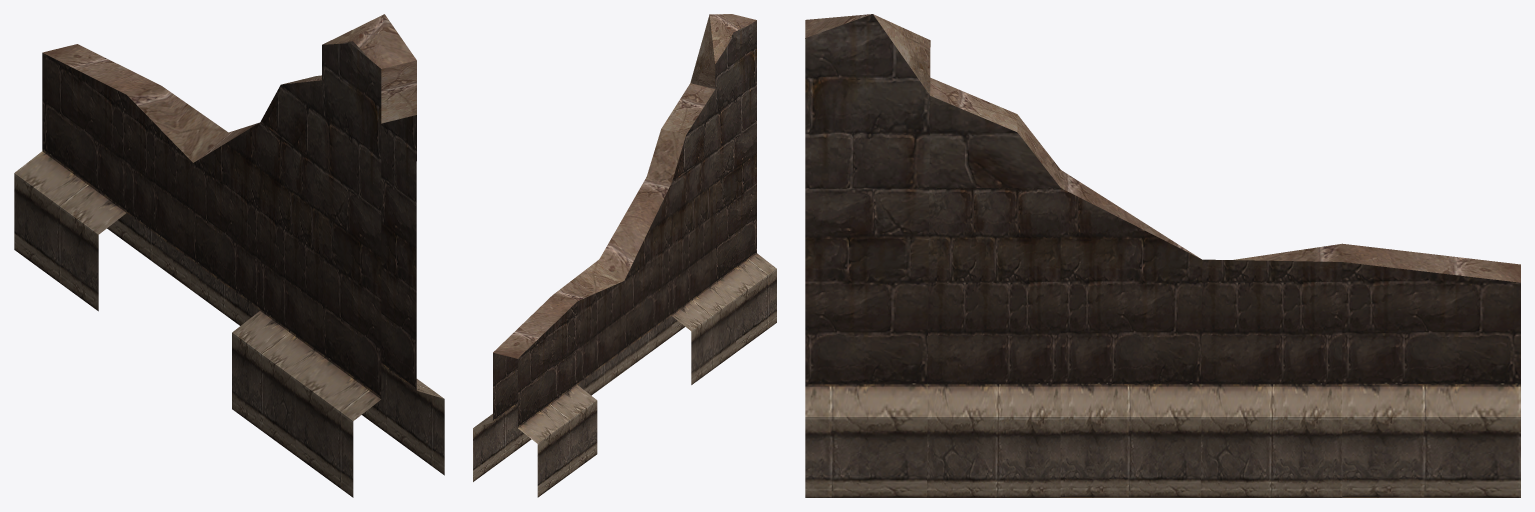
File: blsd_4qiangm_03.FBX
The picture shows the model from 3 angles, left to right: view 1: azimuth 30°, elevation 25°; view 2: azimuth 150°, elevation 25°; view 3: azimuth 270°, elevation 25°; orthographic projection. The views are drawn at different scales.
Parts seen in each view (by area): view 1: blsd_4qiangm_03; view 2: blsd_4qiangm_03; view 3: blsd_4qiangm_03.
Part boxes in pixels (x1,y1,x2,y2): blsd_4qiangm_03: (14,14,444,497); blsd_4qiangm_03: (473,14,776,497); blsd_4qiangm_03: (805,14,1520,497).
Bounding box in the file's own units: 125 × 581 × 803.
